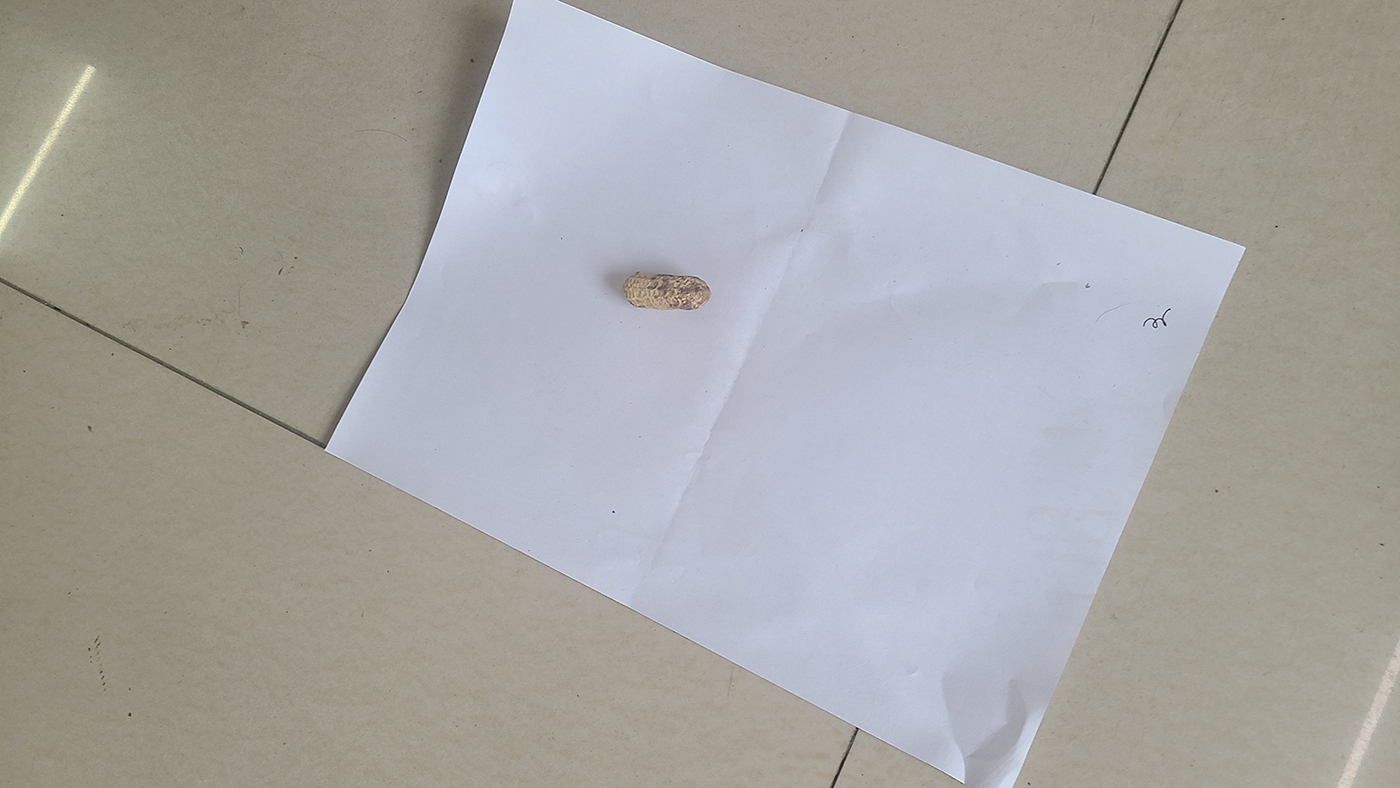h: (623, 272, 713, 311)
